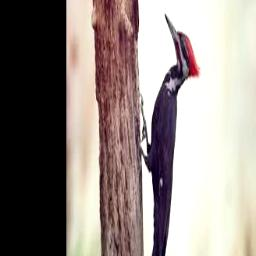Woodpecker: (139, 12, 200, 256)
